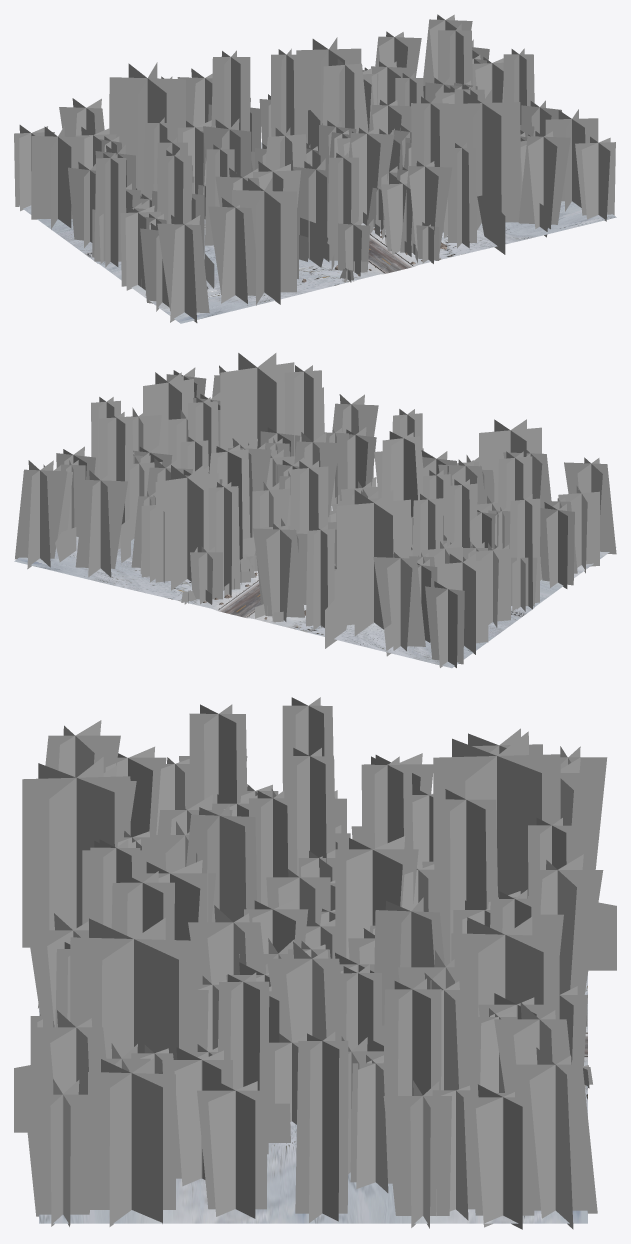
Rendered from road_snow_2.FBX.
3 views of the same model, one above another, from view 1: azimuth 30°, elevation 25°; view 2: azimuth 150°, elevation 25°; view 3: azimuth 270°, elevation 25° (orthographic). The views are drawn at different scales.
Parts seen in each view (by area): view 1: road003, snowtrees160, snowtrees019, snowtrees044, snowtrees072, snowtrees075, snowtrees066, snowtrees177, snowtrees070, snowtrees190, snowtrees155, snowtrees037 (+49 smaller); view 2: snowtrees044, road002, snowtrees135, snowtrees160, snowtrees188, snowtrees182, snowtrees039, snowtrees061, snowtrees075, snowtrees074, snowtrees134, snowtrees073 (+50 smaller); view 3: snowtrees160, snowtrees019, snowtrees191, snowtrees044, snowtrees188, snowtrees186, snowtrees192, snowtrees185, snowtrees190, snowtrees189, snowtrees037, snowtrees135 (+59 smaller).
Boxes of the visible parts, x1,y1,x2,y2 form: road003: [98, 201, 616, 323]; snowtrees160: [448, 89, 520, 229]; snowtrees019: [232, 177, 296, 305]; snowtrees044: [109, 62, 185, 196]; snowtrees072: [157, 215, 209, 322]; snowtrees075: [31, 126, 84, 229]; snowtrees066: [208, 197, 255, 303]; snowtrees177: [518, 131, 570, 229]; snowtrees070: [94, 153, 126, 267]; snowtrees190: [575, 136, 615, 221]; snowtrees155: [400, 161, 452, 253]; snowtrees037: [211, 50, 250, 131]; snowtrees044: [336, 490, 410, 635]; road002: [14, 536, 534, 668]; snowtrees135: [155, 465, 218, 590]; snowtrees160: [220, 353, 294, 451]; snowtrees188: [15, 460, 67, 569]; snowtrees182: [75, 470, 127, 577]; snowtrees039: [252, 523, 304, 621]; snowtrees061: [373, 552, 425, 651]; snowtrees075: [437, 553, 488, 654]; snowtrees074: [425, 581, 464, 667]; snowtrees134: [208, 482, 240, 595]; snowtrees073: [540, 502, 574, 588]; snowtrees160: [70, 917, 197, 1059]; snowtrees019: [22, 757, 130, 947]; snowtrees191: [88, 1058, 175, 1226]; snowtrees044: [433, 731, 560, 898]; snowtrees188: [510, 1047, 597, 1229]; snowtrees186: [295, 1032, 348, 1222]; snowtrees192: [197, 1078, 266, 1218]; snowtrees185: [464, 1084, 534, 1229]; snowtrees190: [23, 1079, 91, 1226]; snowtrees189: [383, 1080, 451, 1228]; snowtrees037: [434, 789, 497, 966]; snowtrees135: [451, 916, 559, 1019].
Size of the model in its own units: 25075 by 7229 by 17571.
